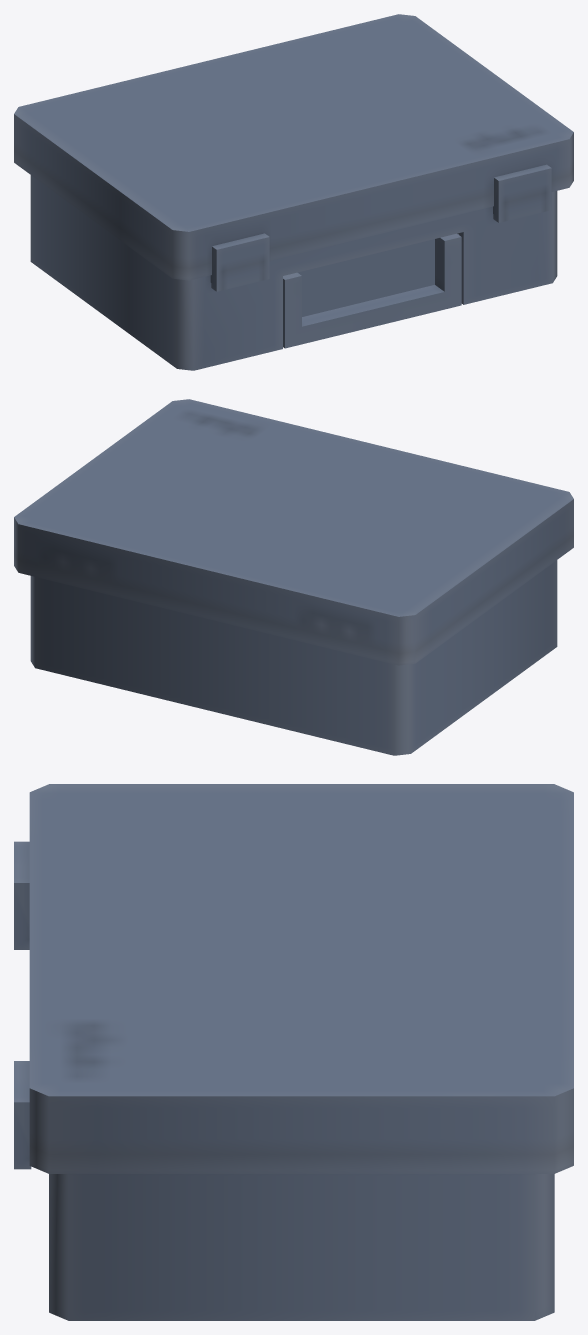
File: jsf_CoinPurse.fbx
3 views of the same model, one above another, from view 1: azimuth 30°, elevation 25°; view 2: azimuth 150°, elevation 25°; view 3: azimuth 270°, elevation 25° (orthographic). The views are drawn at different scales.
Parts seen in each view (by area): view 1: Body, Handle; view 2: Body; view 3: Body.
Part boxes in pixels (bbox=[...]): Body: bbox=[14, 14, 573, 370]; Handle: bbox=[283, 233, 461, 348]; Body: bbox=[14, 399, 573, 755]; Body: bbox=[14, 784, 573, 1320].
Size of the model in its own units: 19 by 6.6 by 14.4.
